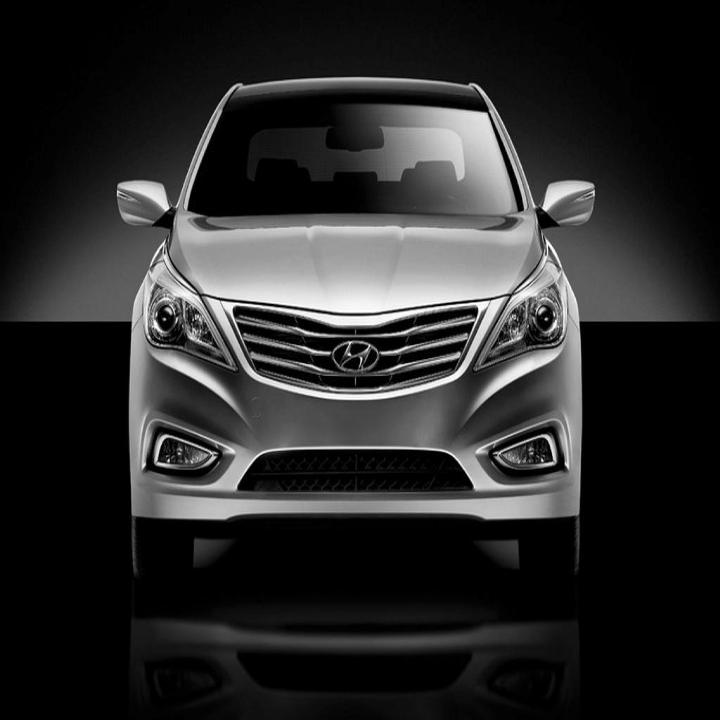car: (116, 74, 595, 584)
